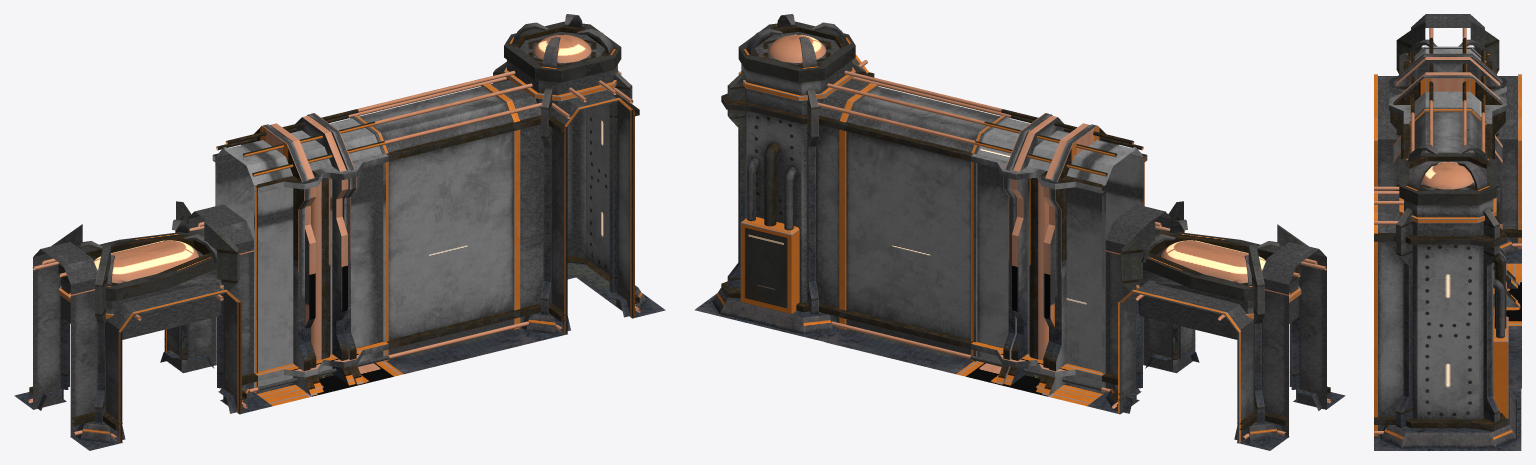
File: duvar_alttan.fbx
The picture shows the model from 3 angles, left to right: view 1: azimuth 30°, elevation 25°; view 2: azimuth 150°, elevation 25°; view 3: azimuth 270°, elevation 25°; orthographic projection. The views are drawn at different scales.
Visible parts, largest first — view 1: wall_base_low.001, wall_cross_wall_base_02_low.001, wall_base02_bot_cable_low.001, wall_corner_big_pipe_low.001; view 2: wall_base_low.001, wall_cross_wall_base_02_low.001, wall_base02_bot_cable_low.001, wall_corner_big_pipe_low.001; view 3: wall_corner_big_pipe_low.001, wall_base_low.001, wall_cross_wall_base_02_low.001, wall_base02_bot_cable_low.001.
Boxes of the visible parts, x1,y1,x2,y2 form: wall_base_low.001: (212, 109, 403, 405); wall_cross_wall_base_02_low.001: (14, 201, 272, 450); wall_base02_bot_cable_low.001: (348, 77, 534, 374); wall_corner_big_pipe_low.001: (479, 14, 665, 342); wall_base_low.001: (956, 109, 1147, 406); wall_cross_wall_base_02_low.001: (1087, 201, 1345, 450); wall_base02_bot_cable_low.001: (825, 77, 1010, 374); wall_corner_big_pipe_low.001: (694, 14, 880, 341); wall_corner_big_pipe_low.001: (1374, 144, 1521, 450); wall_base_low.001: (1389, 37, 1521, 325); wall_cross_wall_base_02_low.001: (1374, 14, 1521, 263); wall_base02_bot_cable_low.001: (1403, 100, 1521, 388).
Bounding box in the file's own units: 2804 × 1264 × 637.
